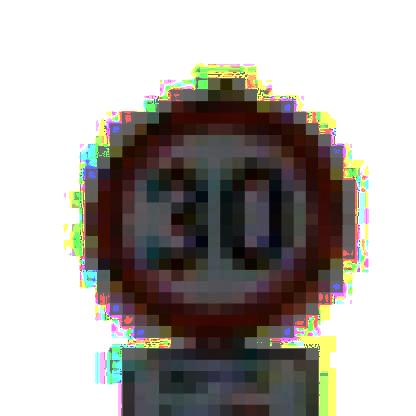Speed Limit -30-: (82, 75, 357, 349)
